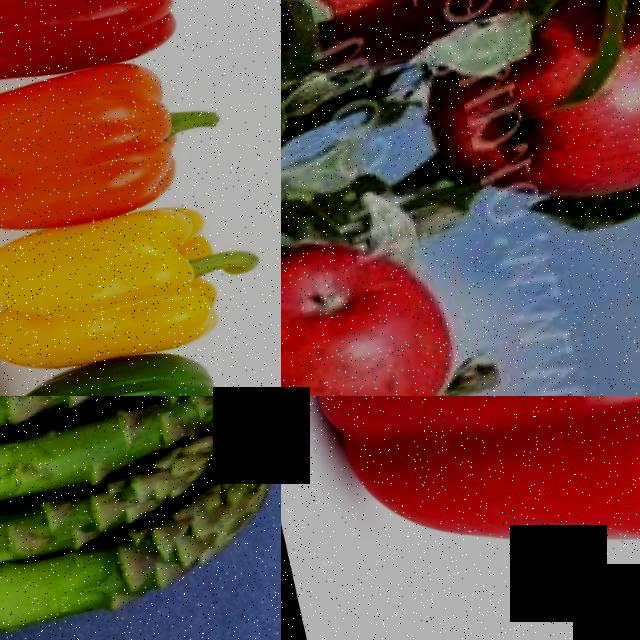apple: (420, 0, 640, 239), (281, 200, 502, 396), (281, 0, 562, 93)
asparagus: (106, 466, 281, 573), (65, 429, 233, 520), (42, 396, 280, 459), (0, 396, 189, 444)
bell pepper: (281, 396, 640, 640), (0, 163, 281, 396), (0, 26, 250, 271), (0, 0, 222, 129), (0, 304, 281, 396)
